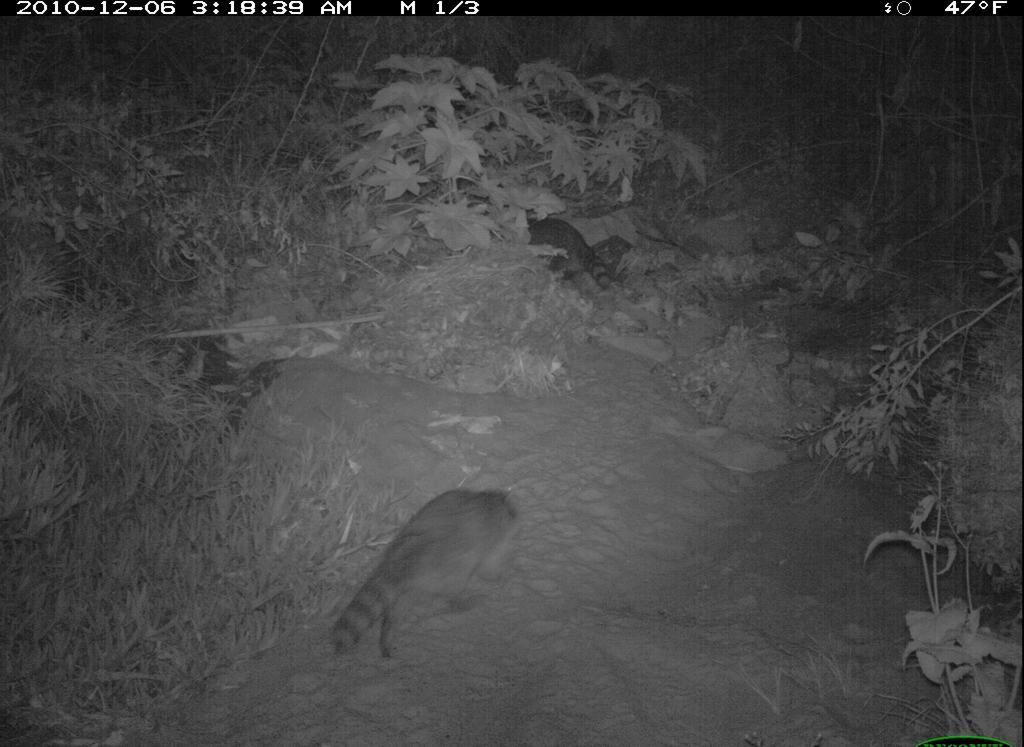raccoon: (318, 482, 538, 674), (520, 200, 621, 301)
